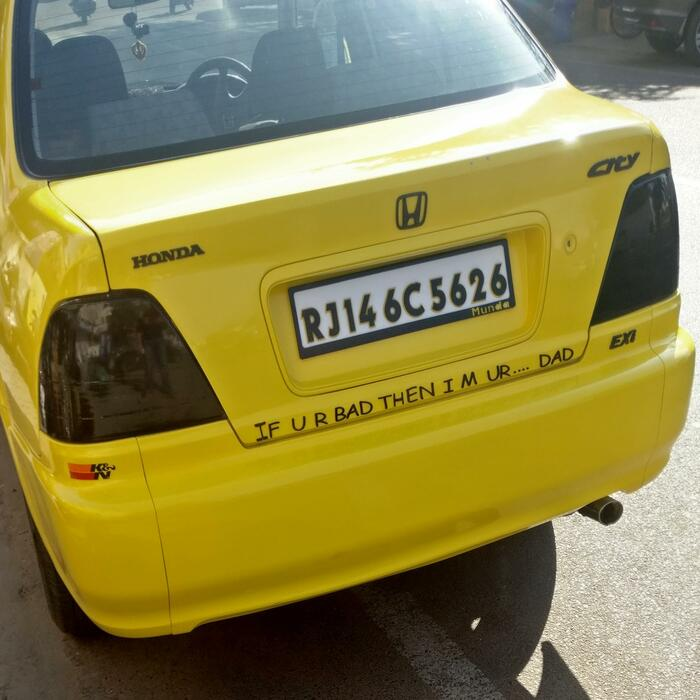n: (271, 239, 535, 352)
